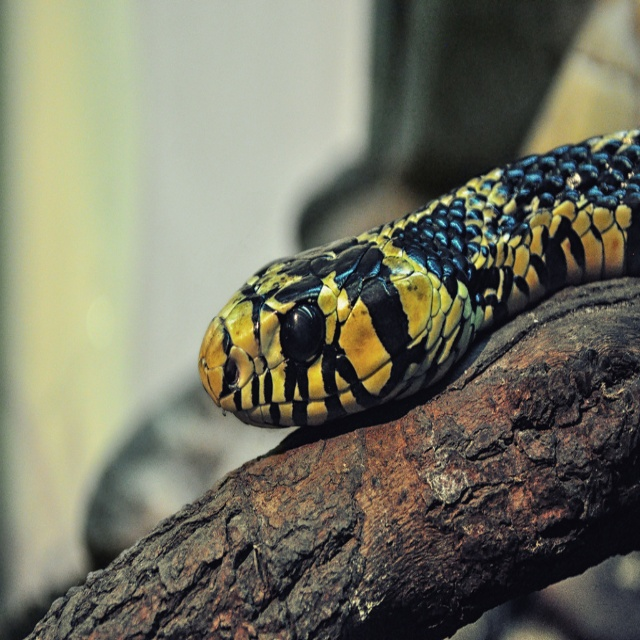Snake: (198, 128, 639, 428)
